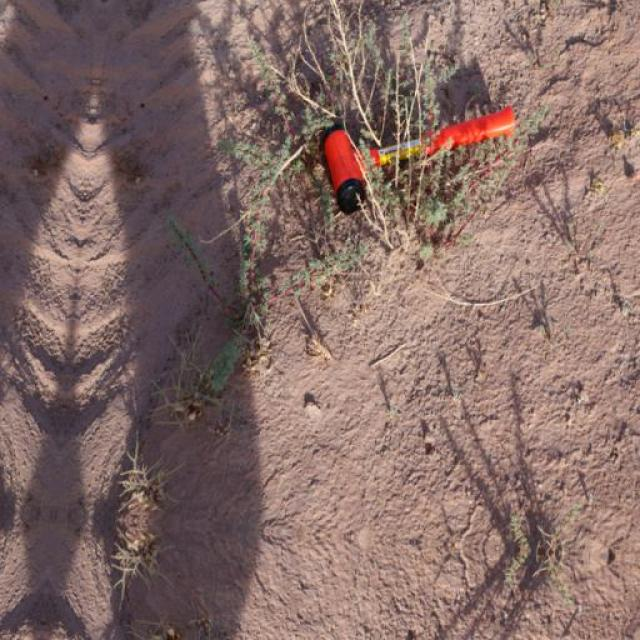mallet: (316, 103, 518, 215)
